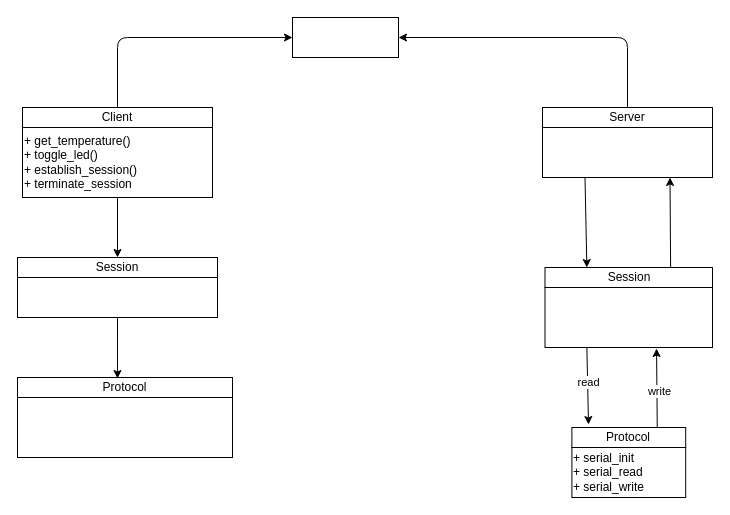
This 730x515 diagram has some shape labels left out. The shapes that lost their labels are listed below. From the top down, each one's box as (x1, y1, x2, y2) in pixels, then its label:
(292, 16, 398, 58): App
(542, 126, 712, 178): + server_init() + server_run()
(16, 276, 218, 318): + session_init() +session_transfer()
(16, 396, 232, 458): + protocol_init() + protocol_send() + protocol_receive()
